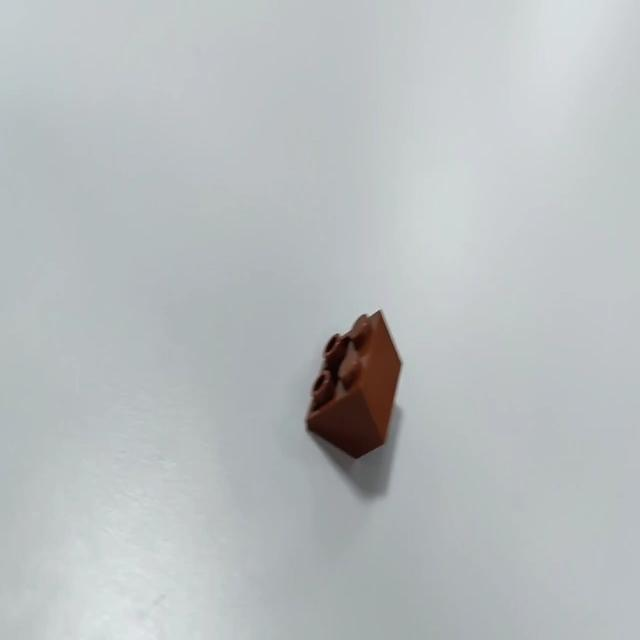X2x2x1: (304, 306, 403, 459)
